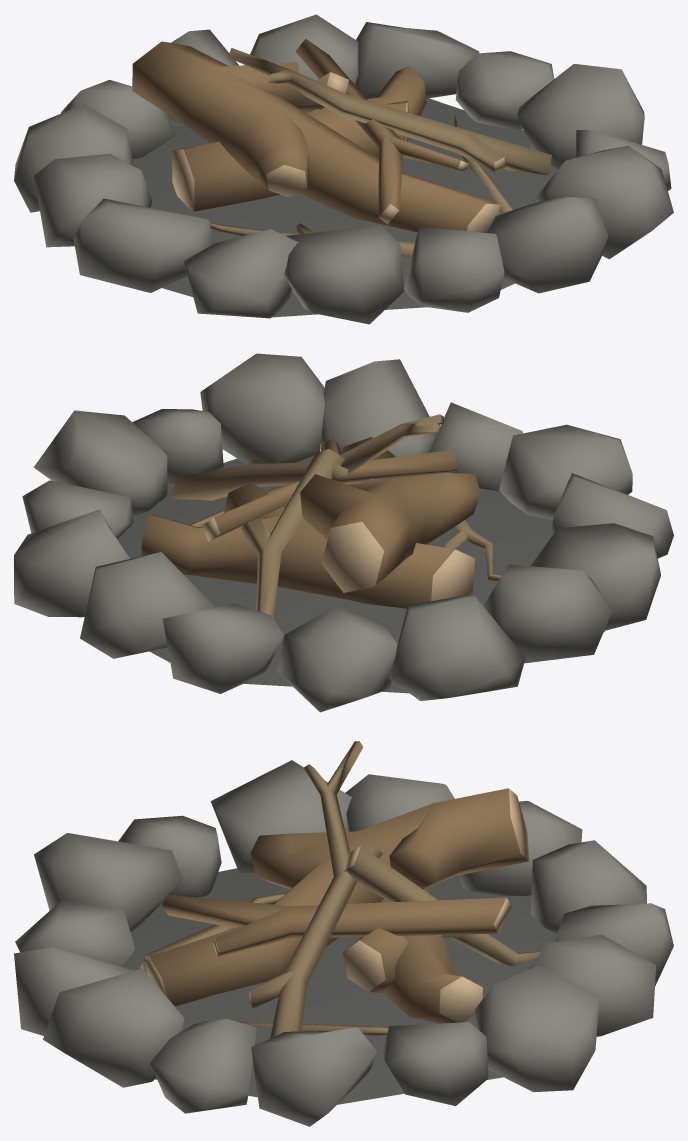
File: rpgpp_ag_camp_fire_01.fbx
The picture shows the model from 3 angles, top to bottom: view 1: azimuth 30°, elevation 25°; view 2: azimuth 150°, elevation 25°; view 3: azimuth 270°, elevation 25°; orthographic projection. The views are drawn at different scales.
Visible parts, largest first — view 1: rpgpp_ag_camp_fire_01; view 2: rpgpp_ag_camp_fire_01; view 3: rpgpp_ag_camp_fire_01.
Part boxes in pixels (x1=…): rpgpp_ag_camp_fire_01: x1=14, y1=14, x2=673, y2=324; rpgpp_ag_camp_fire_01: x1=14, y1=353, x2=673, y2=712; rpgpp_ag_camp_fire_01: x1=14, y1=741, x2=673, y2=1126.
Size of the model in its own units: 2.08 by 0.6104 by 1.9.
